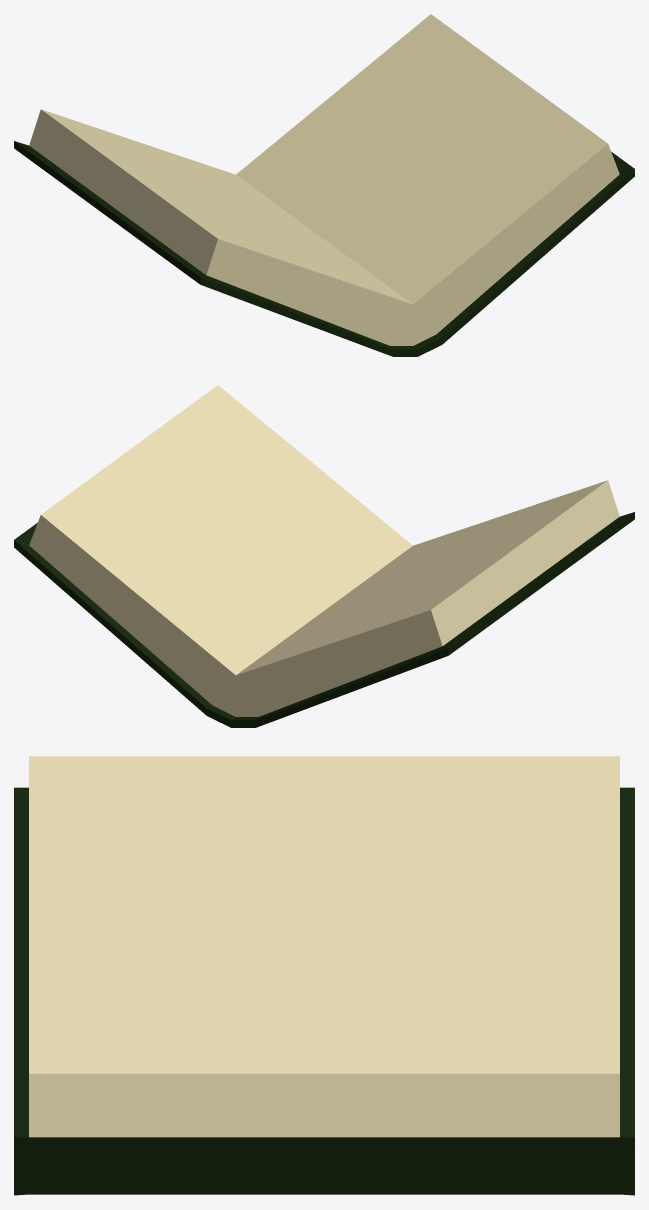
Rendered from Book.fbx.
3 renders of one model, top to bottom at view 1: azimuth 30°, elevation 25°; view 2: azimuth 150°, elevation 25°; view 3: azimuth 270°, elevation 25°, orthographic. The views are drawn at different scales.
Parts seen in each view (by area): view 1: Book; view 2: Book; view 3: Book.
Part boxes in pixels (x1=…): Book: x1=14, y1=14, x2=634, y2=356; Book: x1=14, y1=385, x2=634, y2=727; Book: x1=14, y1=756, x2=634, y2=1195.
Bounding box in the file's own units: 283 × 101 × 210.
